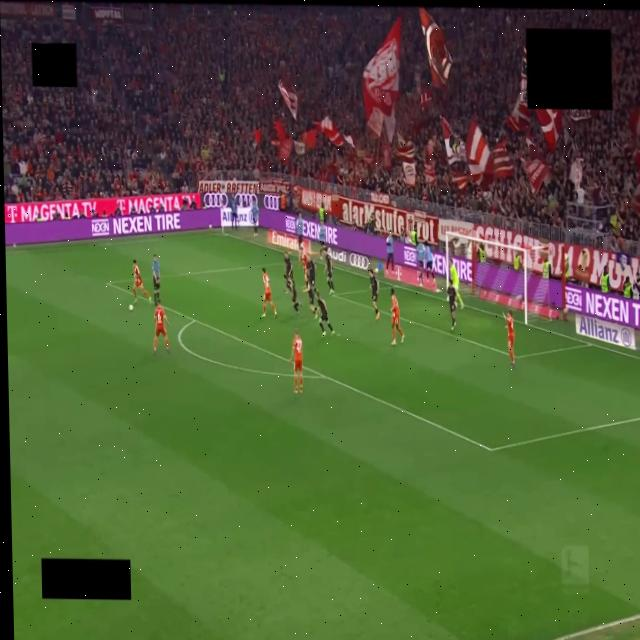ball: (129, 305, 133, 311)
player: (315, 290, 334, 336), (133, 260, 151, 303), (291, 329, 303, 393), (154, 305, 170, 353), (262, 268, 276, 317), (391, 289, 403, 345), (450, 263, 463, 309), (504, 311, 514, 368), (286, 276, 301, 312), (369, 270, 379, 319), (447, 285, 456, 330), (325, 250, 334, 294), (307, 284, 318, 319), (300, 247, 308, 291), (284, 252, 292, 291), (307, 258, 315, 287)
referee: (153, 254, 160, 304)
